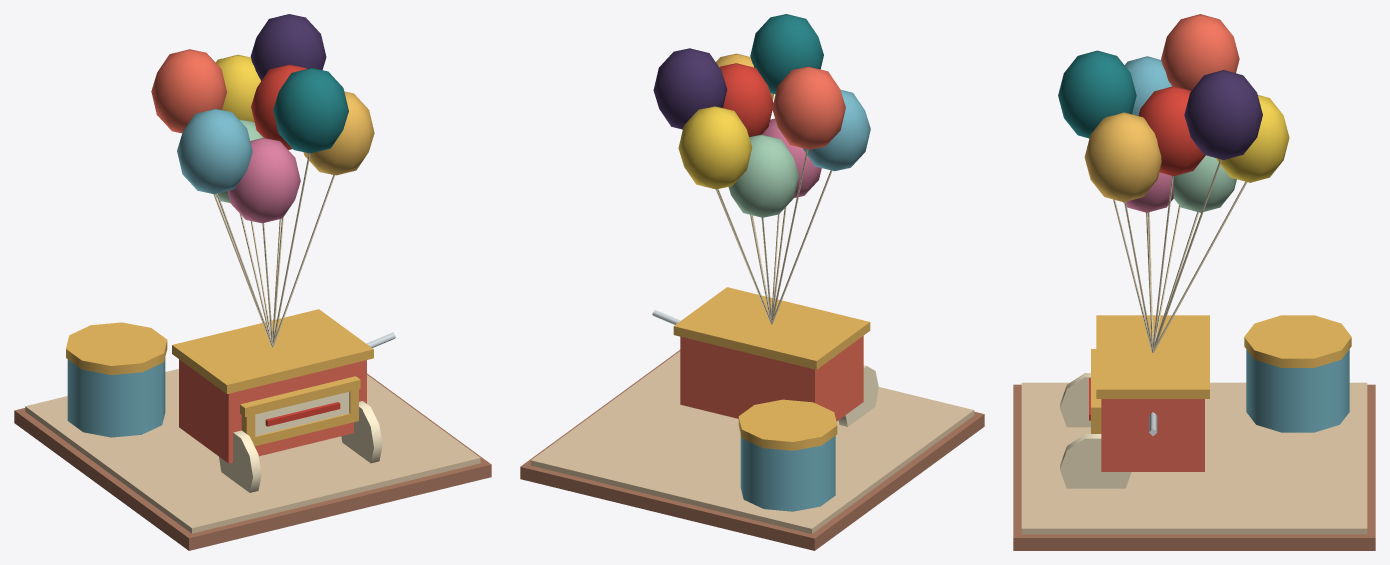
The model's file is stall_balloon.glb.
3 views of the same model, side by side, from view 1: azimuth 30°, elevation 25°; view 2: azimuth 150°, elevation 25°; view 3: azimuth 270°, elevation 25° (orthographic). The views are drawn at different scales.
Parts seen in each view (by area): view 1: stall_balloon; view 2: stall_balloon; view 3: stall_balloon.
Part boxes in pixels (box(x1,y1,x2,y2)): stall_balloon: box(14, 14, 491, 550); stall_balloon: box(520, 14, 984, 550); stall_balloon: box(1013, 14, 1375, 550).
Size of the model in its own units: 3.5 by 4.56 by 3.5.
